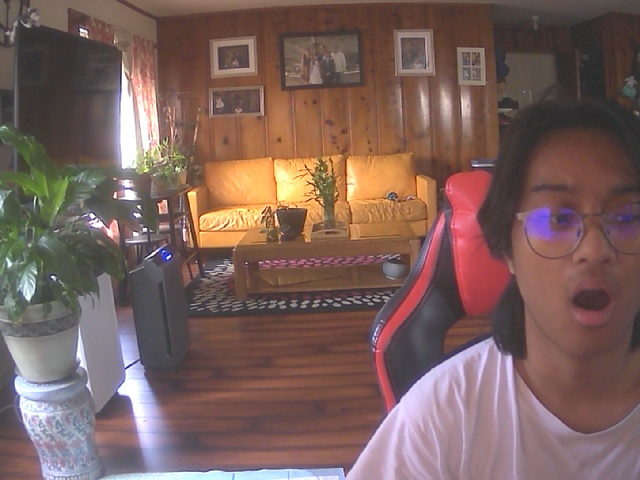fear: (498, 98, 637, 355)
